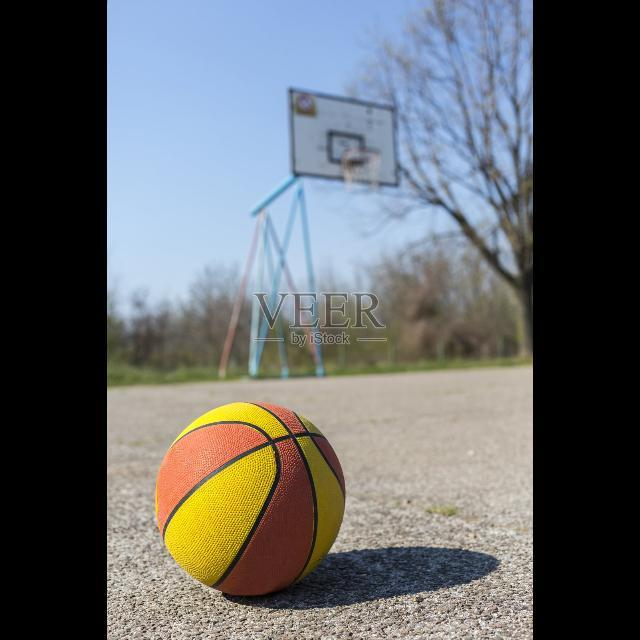basketball: (158, 402, 346, 596)
